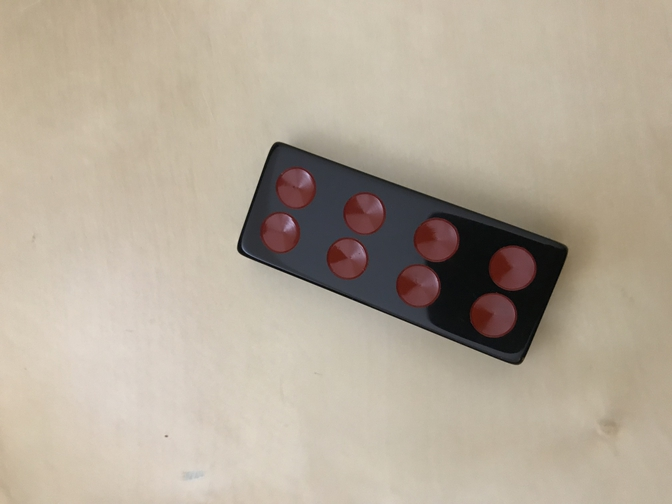man: (235, 140, 571, 368)
